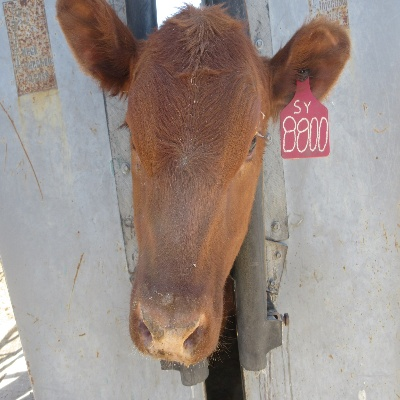fidget_spinner: (132, 299, 209, 364)
